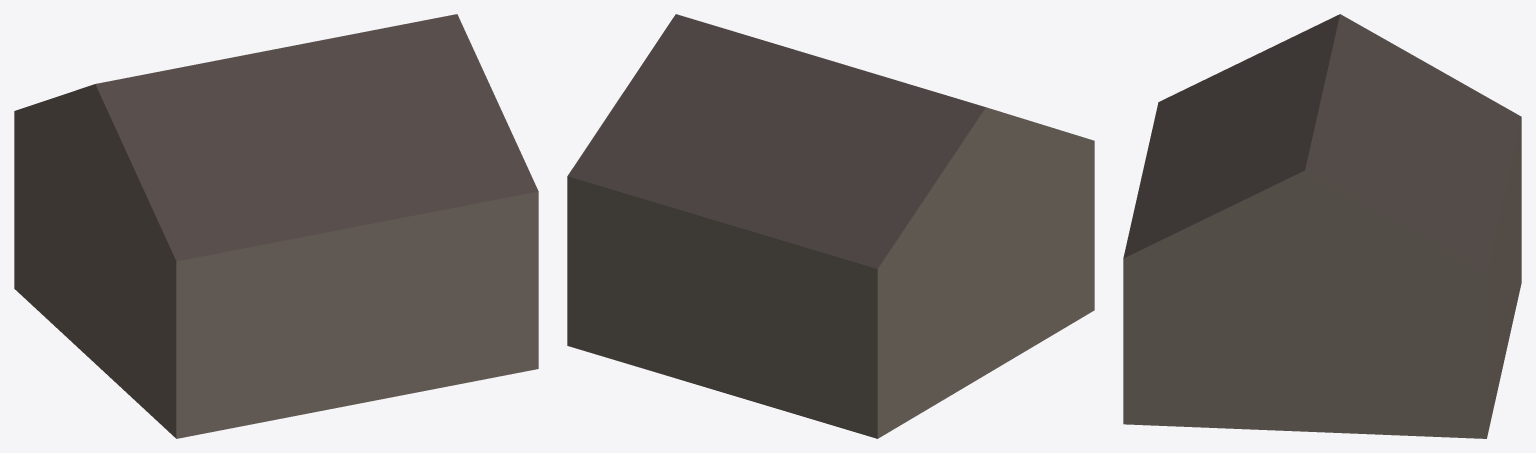
3 views of the same model, side by side, from view 1: azimuth 30°, elevation 25°; view 2: azimuth 150°, elevation 25°; view 3: azimuth 270°, elevation 25° (orthographic). The views are drawn at different scales.
Parts seen in each view (by area): view 1: HP-w859447891; view 2: HP-w859447891; view 3: HP-w859447891.
Part boxes in pixels (x1=…): HP-w859447891: x1=14, y1=14, x2=538, y2=438; HP-w859447891: x1=567, y1=14, x2=1094, y2=438; HP-w859447891: x1=1123, y1=14, x2=1521, y2=438.
Size of the model in its own units: 13.28 by 9.46 by 13.07.
